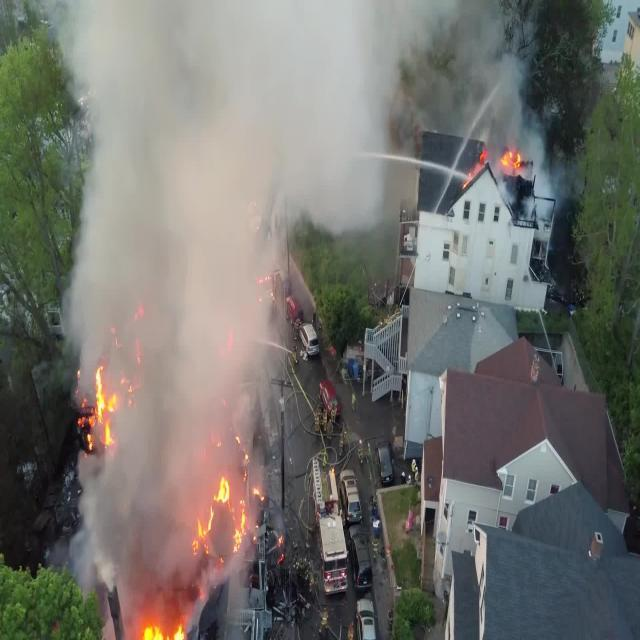Fire: (196, 433, 261, 561), (75, 359, 129, 457), (471, 128, 523, 204), (134, 594, 192, 640)
Smoke: (27, 6, 420, 338), (68, 333, 265, 638)
